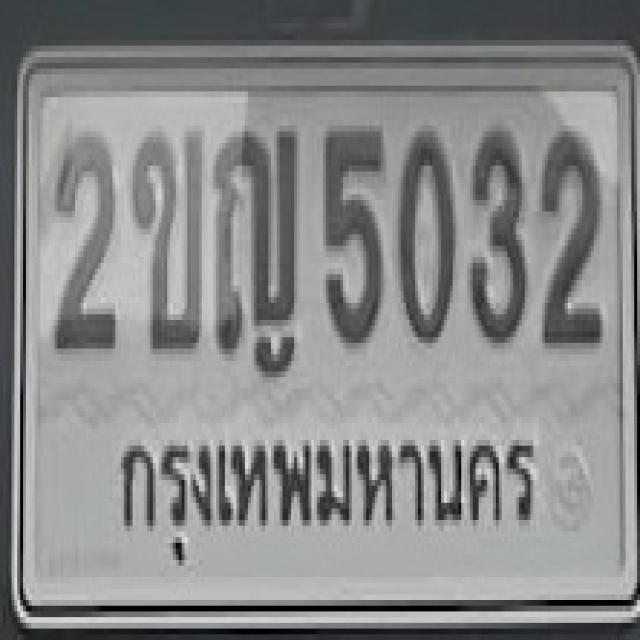license_plate: (14, 41, 640, 627)
